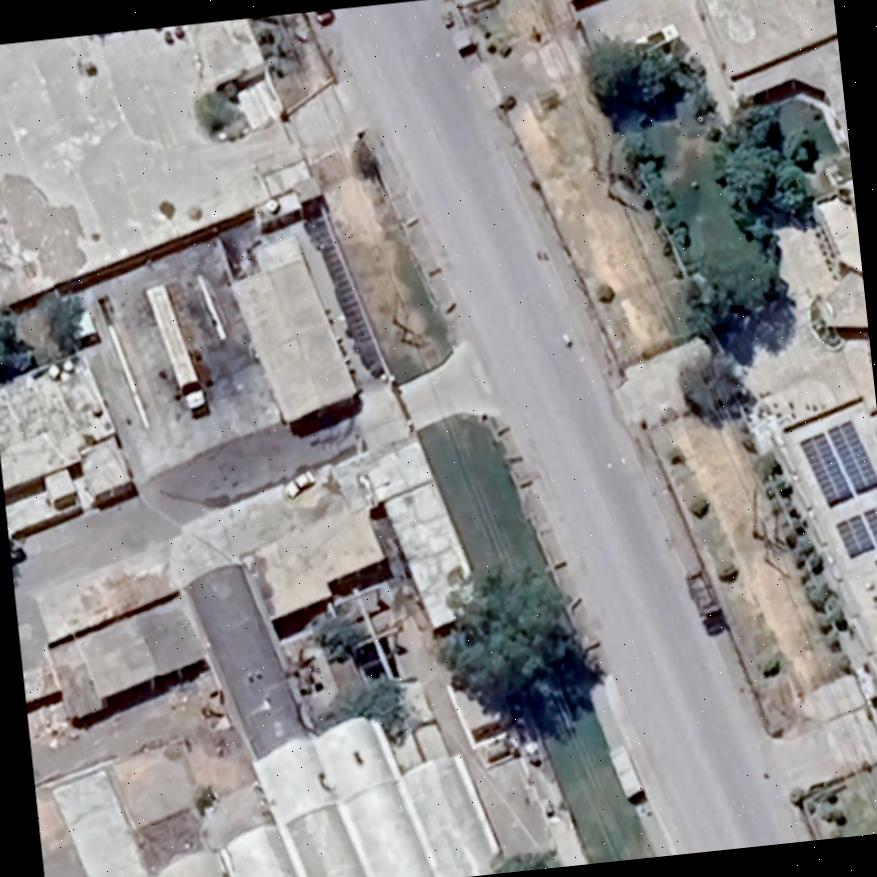Solarpanel: (791, 414, 877, 511), (831, 503, 877, 564)
